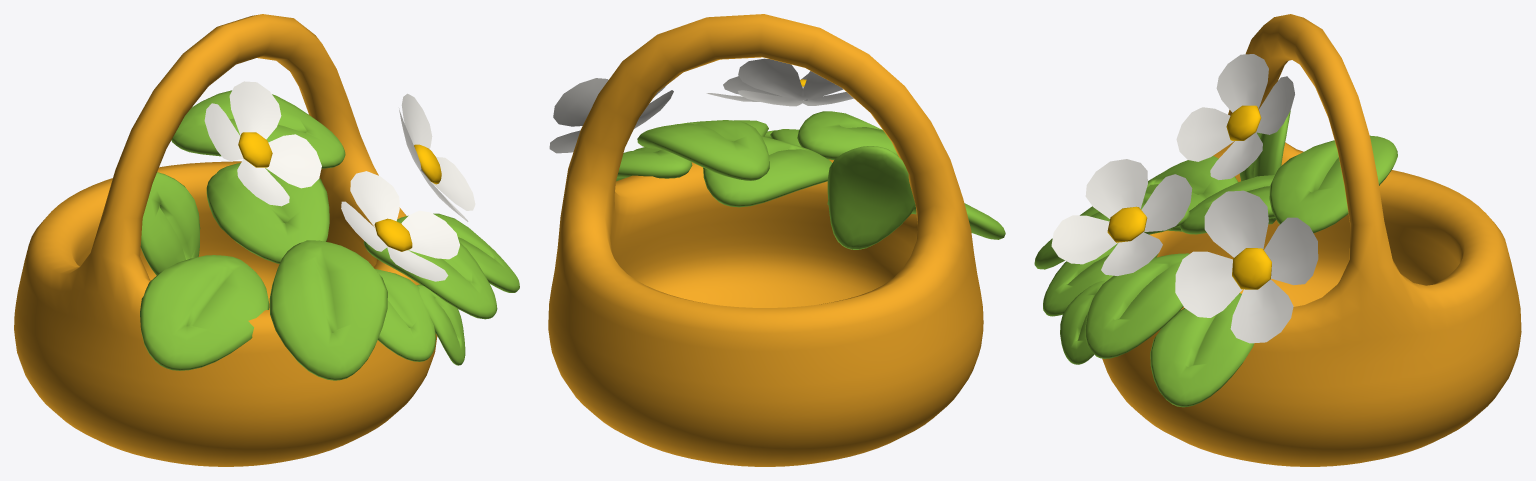
The model's file is Farmhouse_ROOM_flowerpot02_v01.glb.
3 renders of one model, left to right at view 1: azimuth 30°, elevation 25°; view 2: azimuth 150°, elevation 25°; view 3: azimuth 270°, elevation 25°, orthographic. The views are drawn at different scales.
Parts seen in each view (by area): view 1: Farmhouse_ROOM_flowerpot02_v01; view 2: Farmhouse_ROOM_flowerpot02_v01; view 3: Farmhouse_ROOM_flowerpot02_v01.
Part boxes in pixels (<box>): Farmhouse_ROOM_flowerpot02_v01: <box>14,14,519,466</box>; Farmhouse_ROOM_flowerpot02_v01: <box>548,14,1005,466</box>; Farmhouse_ROOM_flowerpot02_v01: <box>1034,14,1521,466</box>.
Bounding box in the file's own units: 0.5236 × 0.4867 × 0.5331.
